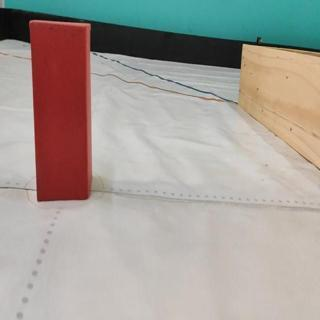redbox: (27, 19, 93, 203)
